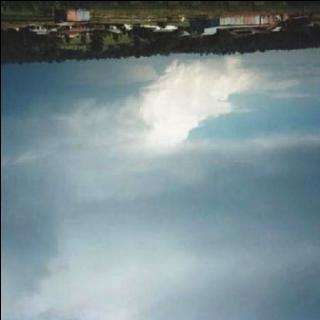Altostratus: (0, 59, 320, 320)
